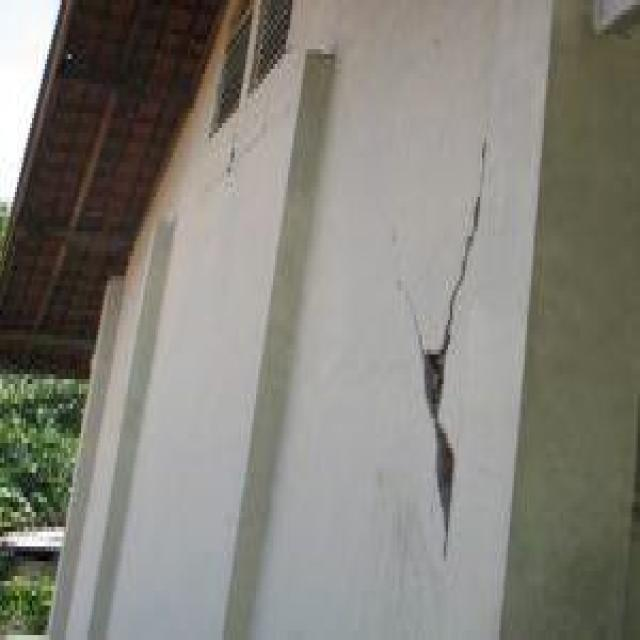damage: (437, 113, 506, 351), (397, 330, 468, 559)
